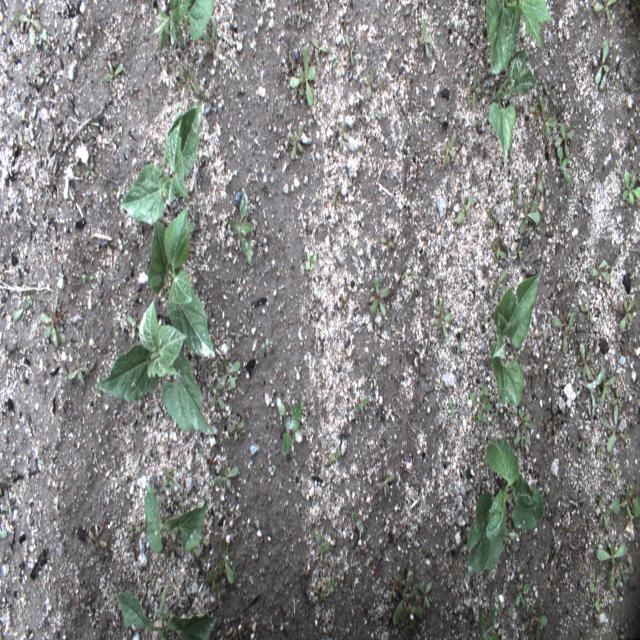crop: (96, 298, 216, 442), (147, 200, 216, 359), (466, 436, 544, 574), (120, 99, 204, 225), (489, 271, 544, 409), (119, 584, 222, 638), (486, 54, 536, 164), (485, 0, 554, 75), (144, 481, 209, 555), (154, 1, 215, 55)
weed: (576, 337, 628, 456), (508, 164, 545, 266), (286, 33, 331, 116), (533, 94, 572, 179), (594, 458, 638, 529), (385, 568, 432, 628), (229, 186, 258, 269), (596, 531, 637, 588), (274, 395, 308, 459), (202, 544, 236, 600), (208, 355, 242, 410), (20, 4, 53, 59), (552, 293, 577, 358), (362, 272, 392, 324), (211, 459, 242, 502), (591, 35, 613, 95), (37, 308, 64, 356), (468, 380, 497, 424), (428, 294, 452, 344), (614, 288, 638, 336), (476, 596, 503, 638), (491, 209, 512, 262), (525, 360, 556, 394), (66, 348, 91, 389), (285, 118, 306, 166), (619, 160, 638, 210), (416, 13, 434, 60), (13, 292, 36, 327), (454, 194, 476, 229), (79, 152, 101, 187), (198, 16, 220, 51), (85, 521, 111, 550), (73, 594, 99, 623), (362, 66, 381, 105), (339, 30, 358, 68), (440, 134, 458, 174), (374, 468, 394, 504), (587, 260, 614, 286), (225, 415, 249, 444), (516, 408, 532, 451), (328, 116, 347, 152), (313, 526, 332, 561), (180, 68, 202, 98), (347, 505, 369, 535), (468, 69, 484, 109), (590, 3, 615, 28), (589, 578, 606, 614), (159, 461, 176, 496), (300, 245, 318, 277), (101, 59, 126, 82), (486, 268, 508, 294), (322, 568, 341, 598), (379, 229, 396, 262), (512, 580, 532, 608), (366, 361, 383, 393), (26, 64, 44, 94), (532, 609, 550, 638), (574, 428, 592, 454), (292, 2, 308, 30), (354, 395, 371, 418), (80, 268, 98, 289), (127, 312, 140, 341), (444, 394, 458, 420), (126, 517, 141, 540), (412, 157, 423, 184), (454, 331, 464, 360), (329, 449, 344, 468), (259, 337, 273, 352), (370, 106, 382, 123), (90, 384, 97, 408), (403, 8, 412, 22)
